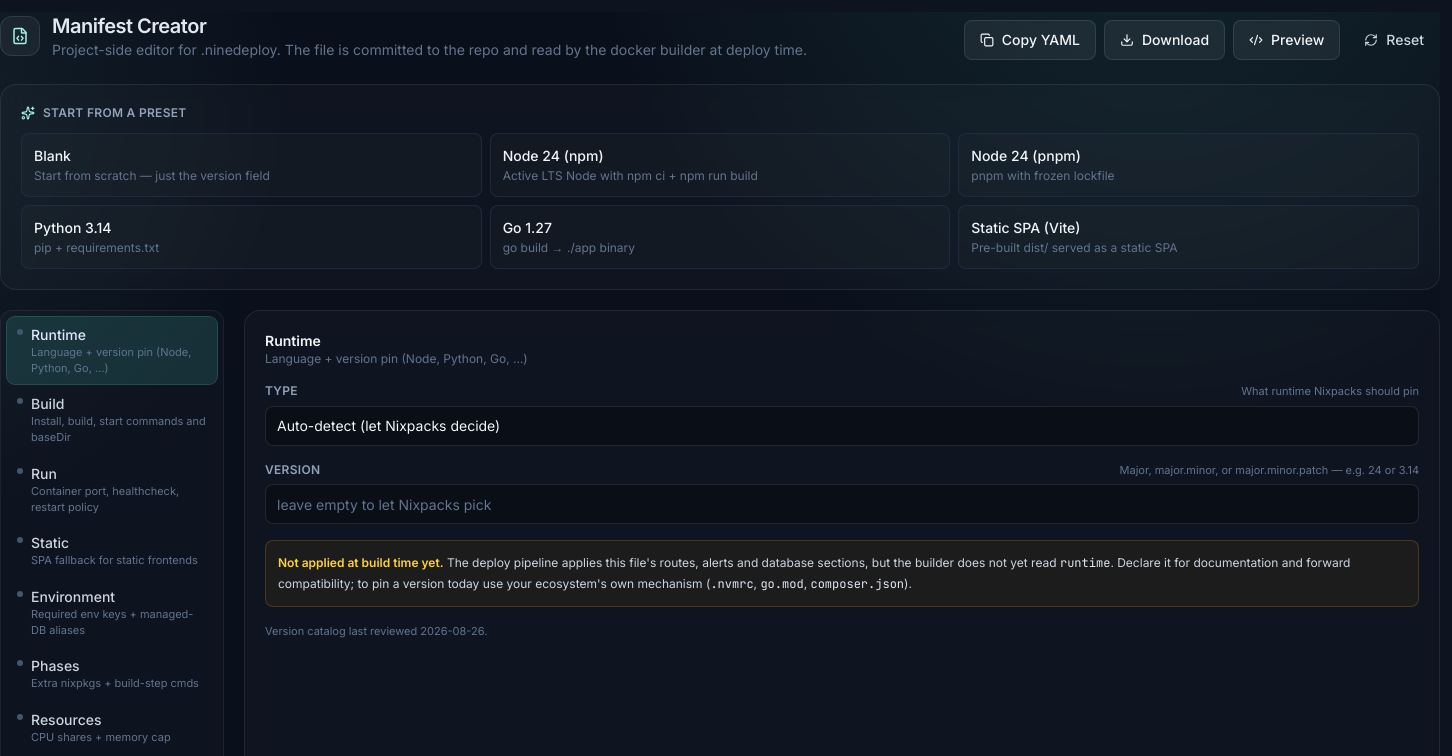
Test: ManifestCreator › replaces the form state when a preset is clicked
What coordinates should you click on to do the following:
click the text "Node 24 (npm)"
I would click on:
 (553, 156)
Its box is [503,147,604,164].
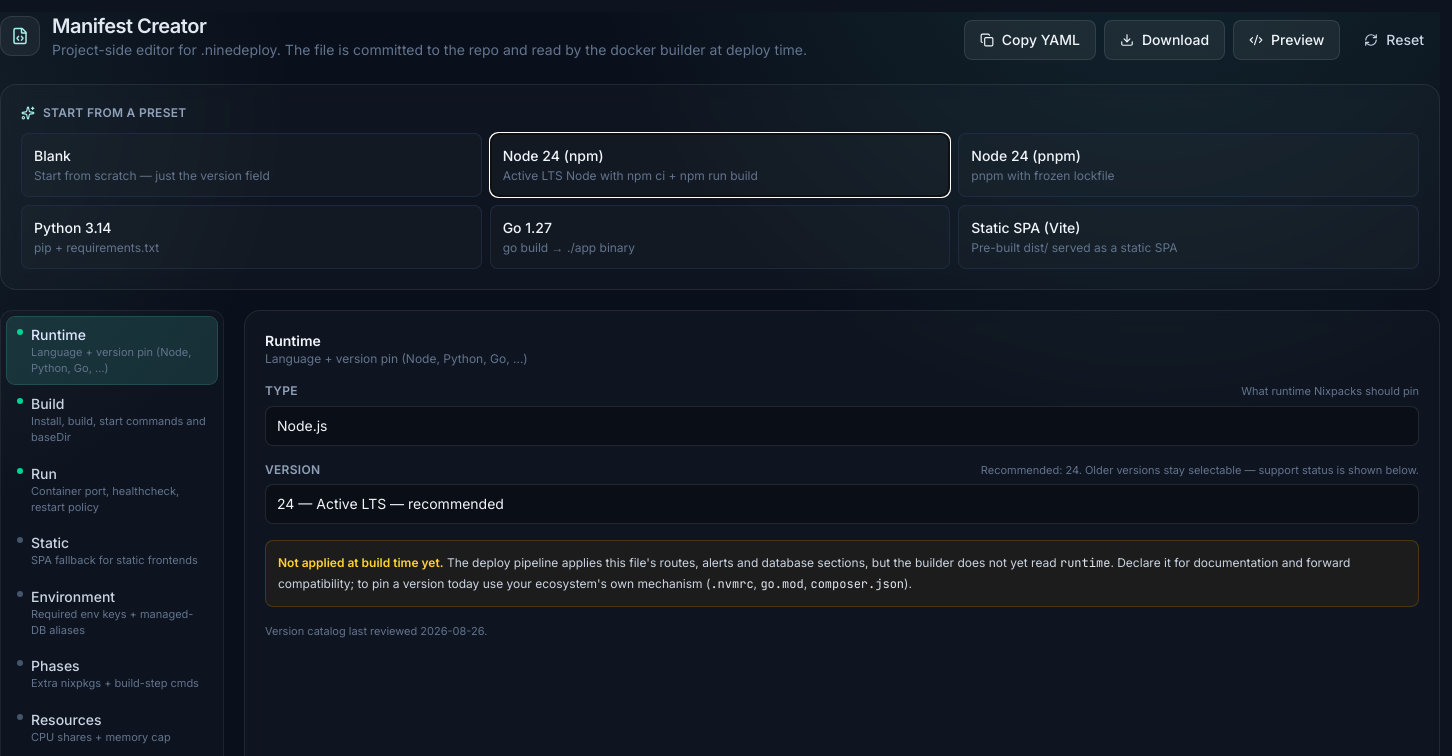
Expected: the dropdown named "Runtime version" shows "24 — Active LTS — recommended", [265,484,1419,524]
